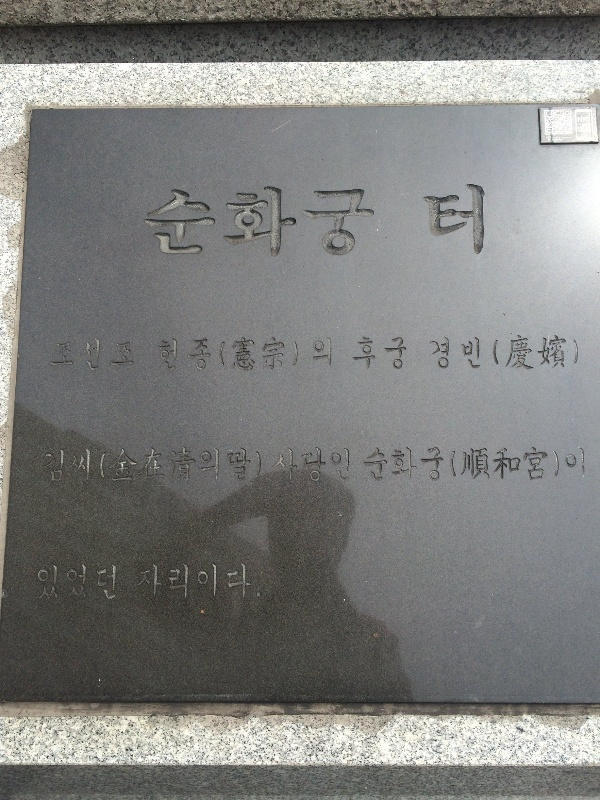text: (433, 177, 448, 266), (449, 177, 464, 266), (465, 177, 480, 266), (161, 183, 176, 263), (177, 183, 192, 263), (193, 183, 208, 263), (209, 183, 224, 263), (225, 183, 240, 263), (241, 183, 256, 263), (257, 183, 272, 263), (273, 183, 288, 263), (289, 183, 304, 263), (305, 183, 320, 263), (321, 183, 336, 263), (337, 183, 352, 263), (353, 183, 368, 263), (369, 183, 382, 263), (423, 177, 432, 266), (150, 183, 160, 263), (241, 441, 256, 485), (113, 443, 128, 487), (129, 443, 144, 487), (145, 443, 160, 487), (161, 443, 176, 487), (177, 443, 192, 487), (369, 443, 384, 486), (385, 443, 400, 486), (401, 443, 416, 486), (417, 443, 432, 486), (49, 564, 64, 606), (65, 564, 80, 606), (81, 564, 96, 606), (97, 564, 112, 606), (145, 562, 160, 604), (161, 562, 176, 604), (177, 562, 192, 604), (193, 562, 208, 604), (209, 562, 224, 604), (225, 562, 240, 604), (241, 562, 256, 604), (497, 330, 512, 372), (513, 330, 528, 372), (529, 330, 544, 372), (545, 330, 560, 372), (561, 330, 576, 372), (481, 177, 488, 266), (49, 446, 64, 487), (65, 446, 80, 487), (449, 443, 464, 484), (465, 443, 480, 484), (481, 443, 496, 484), (497, 443, 512, 484), (513, 443, 528, 484), (529, 443, 544, 484), (545, 443, 560, 484), (225, 334, 240, 374), (241, 334, 256, 374), (257, 334, 272, 374), (273, 334, 288, 374), (369, 333, 384, 372), (385, 333, 400, 372), (289, 446, 304, 485), (305, 446, 320, 485), (321, 446, 336, 485), (227, 441, 240, 485), (99, 443, 112, 487), (161, 337, 176, 374), (177, 337, 192, 374), (193, 337, 208, 374), (433, 335, 448, 372), (449, 335, 464, 372), (465, 335, 480, 372), (337, 446, 351, 485), (433, 443, 445, 486), (65, 339, 80, 372), (81, 339, 96, 372), (97, 339, 112, 372), (113, 339, 128, 372), (209, 447, 221, 487), (356, 333, 368, 372), (37, 564, 48, 606), (81, 446, 92, 487), (565, 443, 576, 482), (277, 446, 288, 485), (321, 334, 332, 372), (577, 443, 587, 482), (199, 447, 208, 487), (289, 334, 298, 374), (401, 333, 410, 372), (54, 339, 64, 372), (257, 441, 264, 485), (312, 334, 320, 372), (129, 339, 138, 372), (257, 562, 263, 604), (218, 334, 224, 374), (193, 443, 198, 487), (113, 564, 118, 606), (140, 562, 144, 604), (577, 330, 581, 372), (44, 446, 48, 487), (209, 337, 213, 374), (493, 330, 496, 372), (157, 337, 160, 374), (578, 116, 592, 123), (561, 443, 563, 484), (430, 335, 432, 372), (561, 137, 571, 143), (552, 137, 560, 143), (481, 335, 482, 372)
